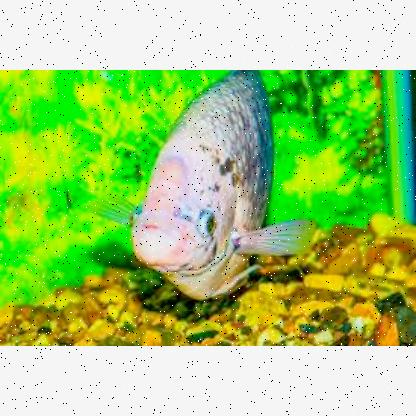gurame: (107, 69, 307, 299)
